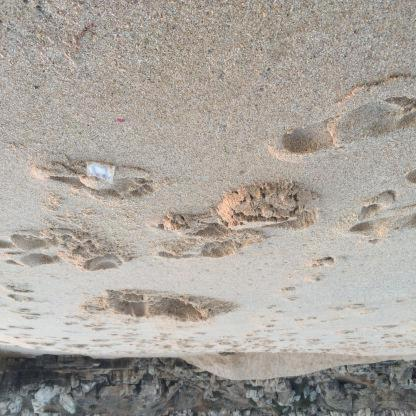Other plastic: (86, 161, 115, 185)
